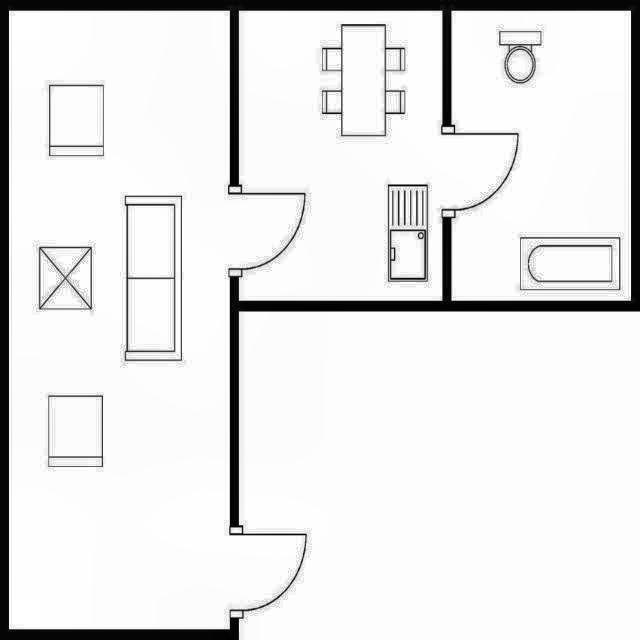room: (9, 11, 229, 629), (239, 13, 442, 301), (451, 10, 630, 299)
